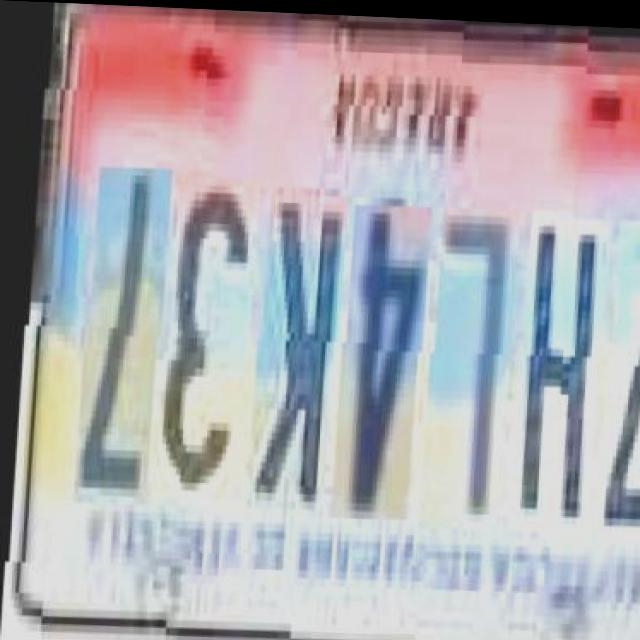3: (154, 194, 252, 528)
4: (331, 214, 424, 532)
7: (73, 193, 163, 535), (597, 213, 640, 538)
h: (508, 210, 606, 537)
k: (247, 204, 341, 531)
l: (419, 207, 514, 534)
